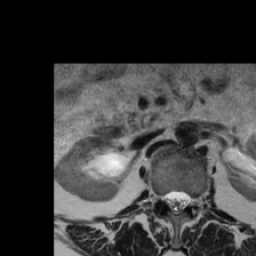CCS_normal: (172, 182, 180, 221)
LFS_normal: (188, 186, 197, 213)
LLS_normal: (180, 182, 188, 215)
RFS_normal: (155, 184, 163, 207)
RLS_normal: (163, 184, 172, 212)
